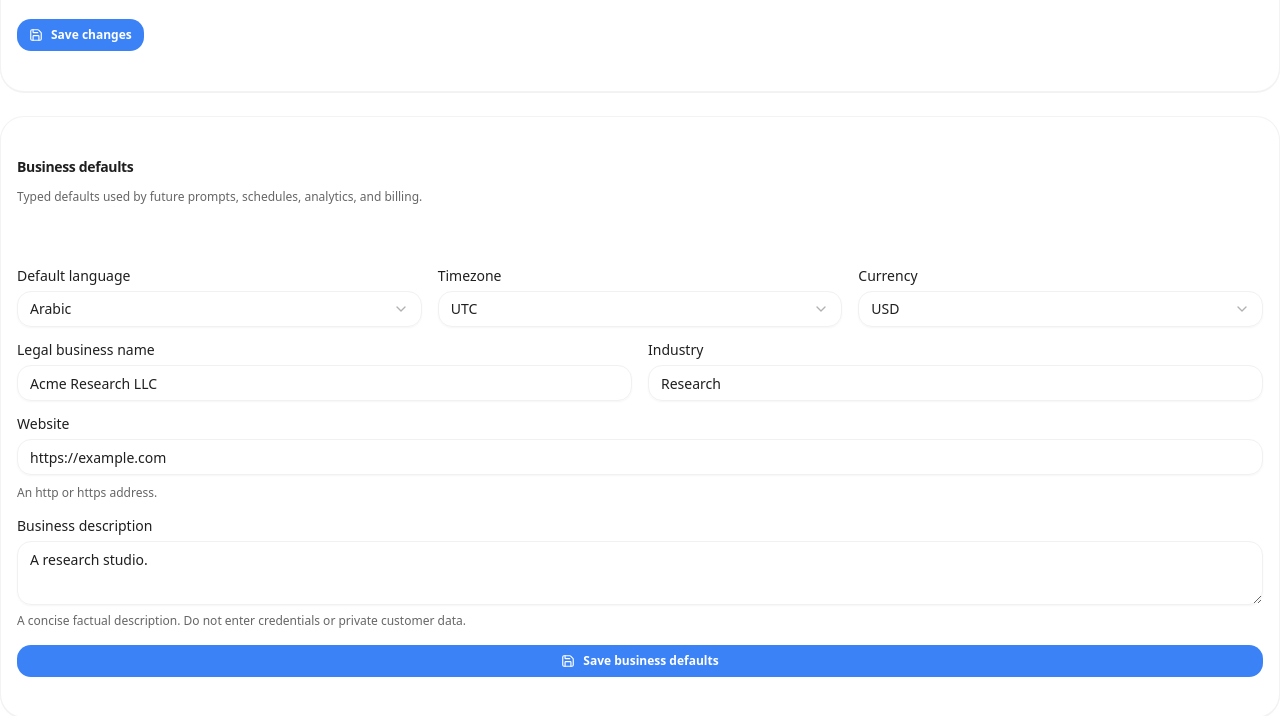
Test: the business defaults form › reports a concurrent update instead of claiming success
(page scrolled)
Click the button "Save business defaults" at (640, 661), box [17,645,1263,677]
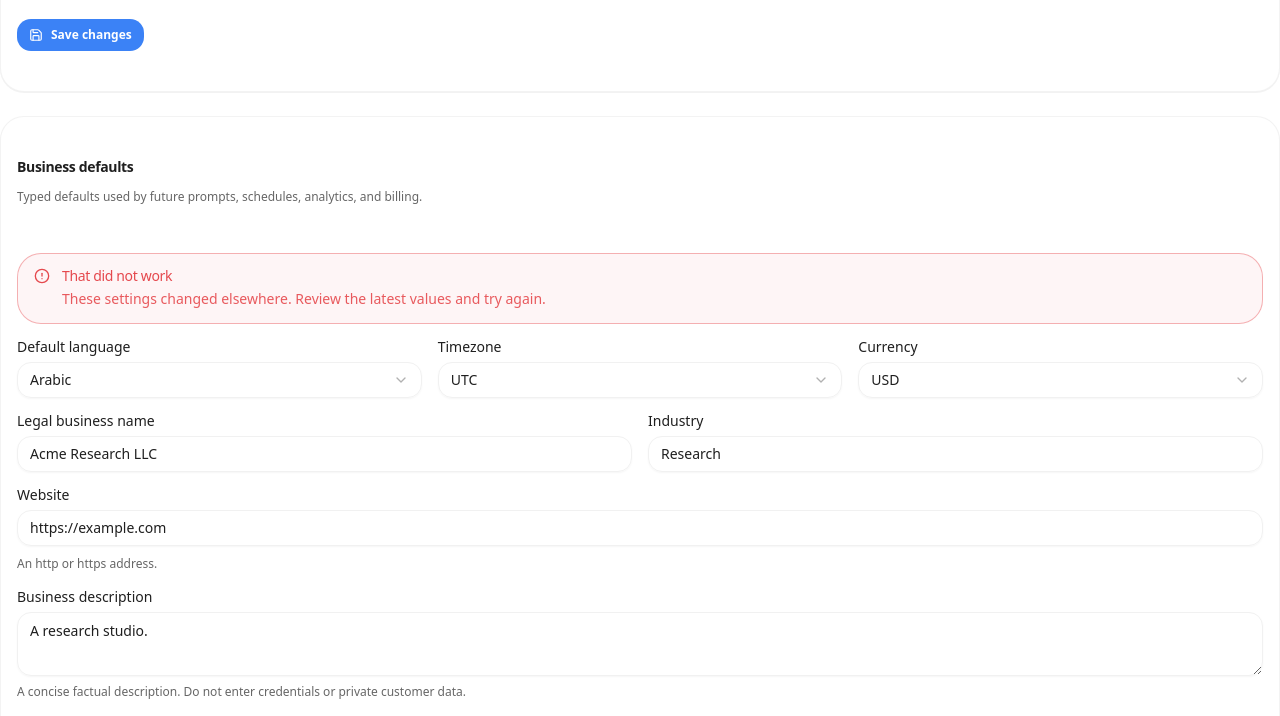
Expected: the text "These settings changed elsewhere. Review the latest values and try again." is shown, [62,288,546,311]
